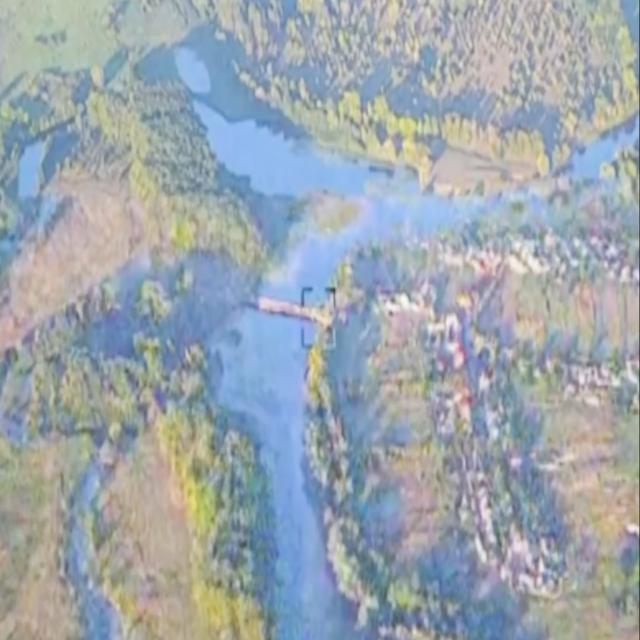fortification: (237, 282, 329, 333)
